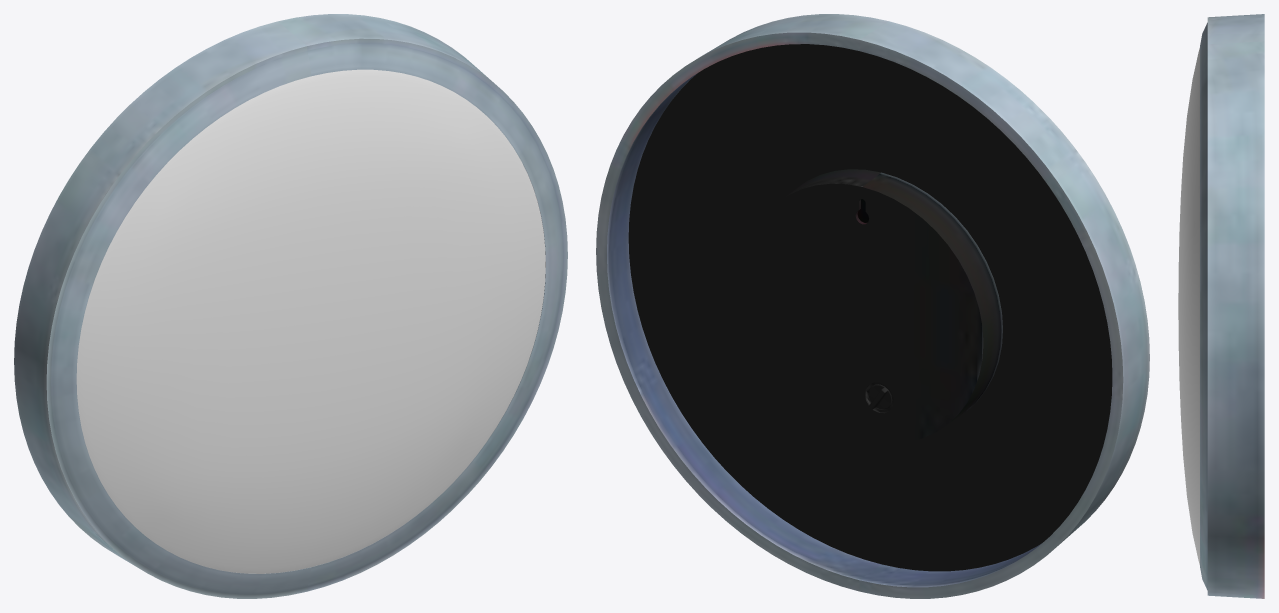
The model's file is wall_clock.glb.
3 views of the same model, side by side, from view 1: azimuth 30°, elevation 25°; view 2: azimuth 150°, elevation 25°; view 3: azimuth 270°, elevation 25° (orthographic). The views are drawn at different scales.
Visible parts, largest first — view 1: wall_clock_1, wall_clock_0; view 2: wall_clock_0; view 3: wall_clock_0, wall_clock_1.
Boxes of the visible parts, x1,y1,x2,y2 form: wall_clock_1: [76, 69, 545, 573]; wall_clock_0: [14, 14, 567, 598]; wall_clock_0: [596, 14, 1149, 598]; wall_clock_0: [1200, 14, 1264, 598]; wall_clock_1: [1178, 48, 1199, 564].
Bounding box in the file's own units: 0.3205 × 0.3205 × 0.0472.
2 materials, 1 textured.
